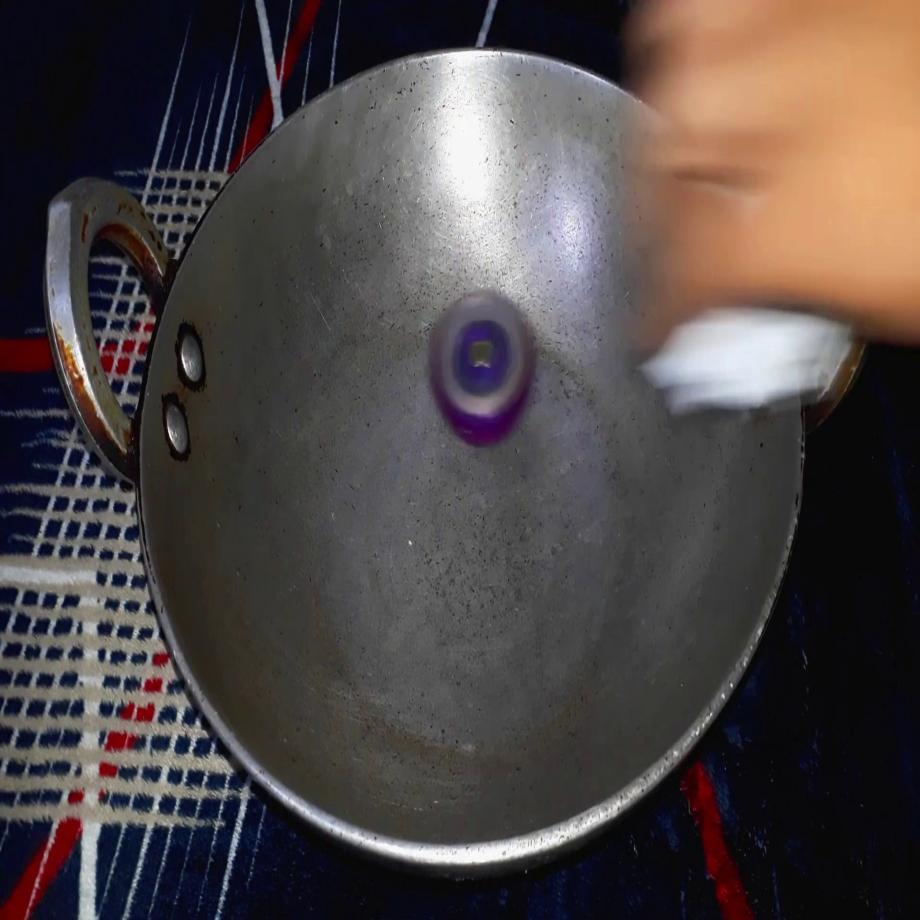beyblade: (416, 268, 545, 465)
